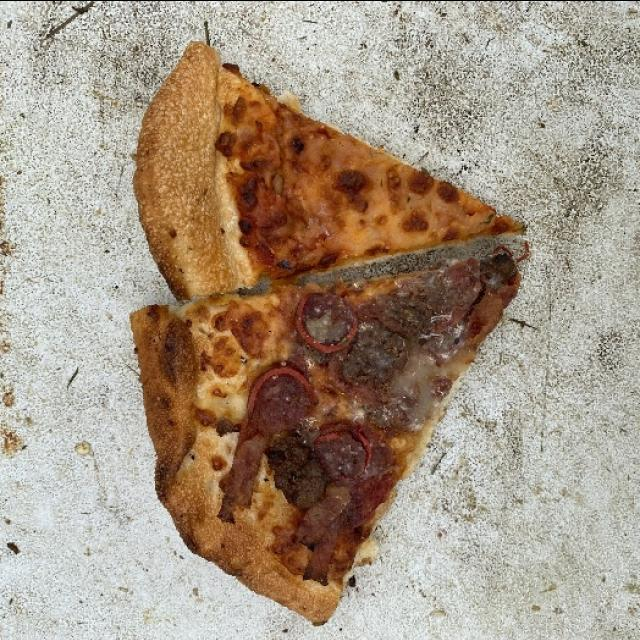organik: (126, 279, 514, 602), (143, 49, 536, 292)
